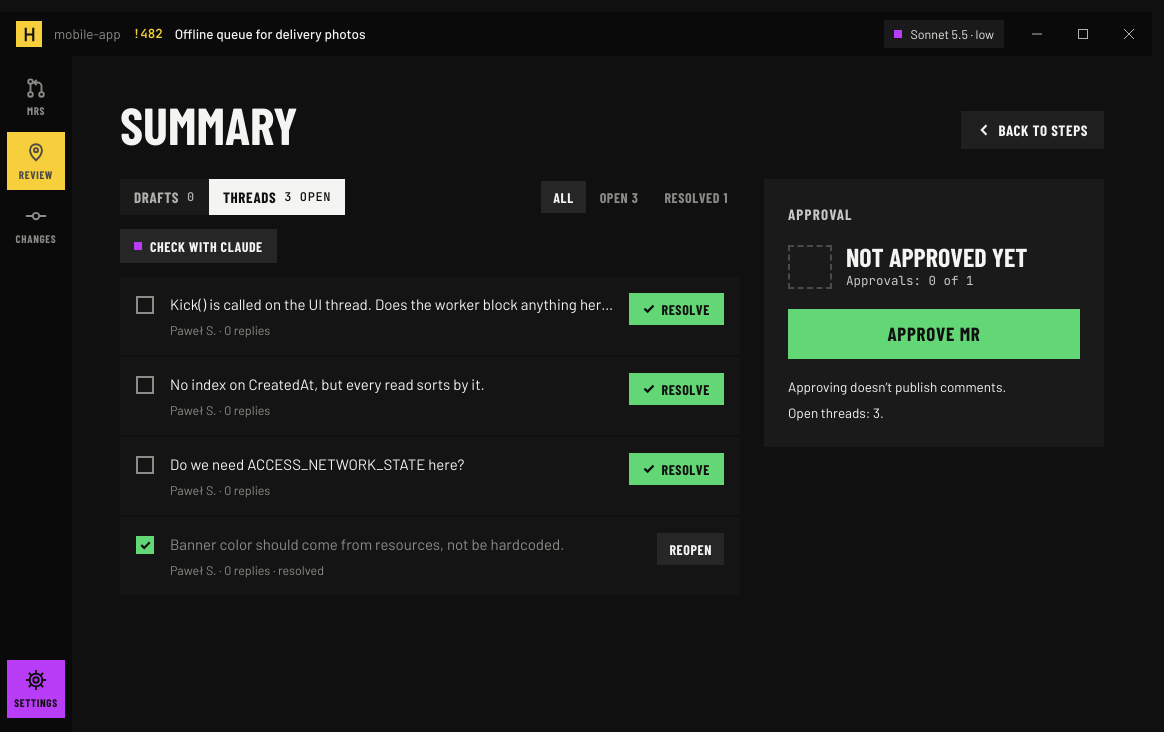
Test: S-05 Threads tab: Check with Claude (F-13.3) › F-13.3 the chip shows the first seven characters of the commit and the hint as Claude gave it
Expected: the element named "Thread filter" is shown, x1=541 y1=181 x2=740 y2=213
Step 1. Click the button "Check with Claude" → click(198, 246), box x1=120 y1=229 x2=277 y2=263
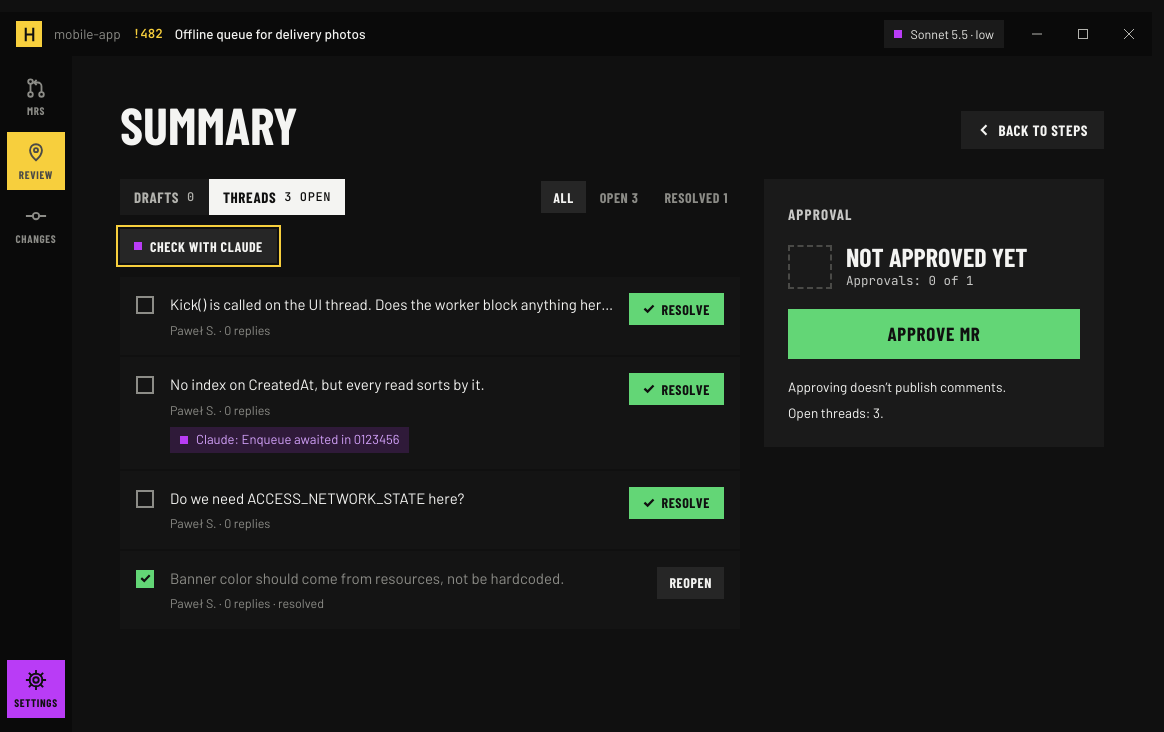
Now the text "Claude: Enqueue awaited in 0123456" is shown, box x1=170 y1=427 x2=410 y2=453
